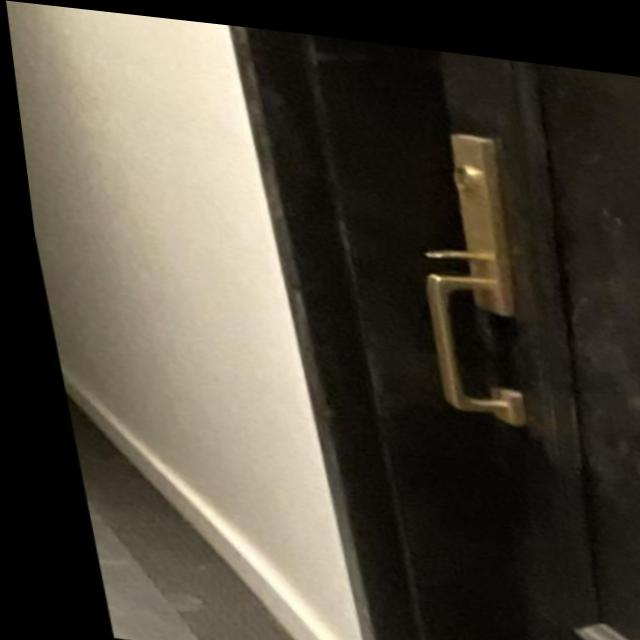door_handle: (381, 254, 549, 436)
